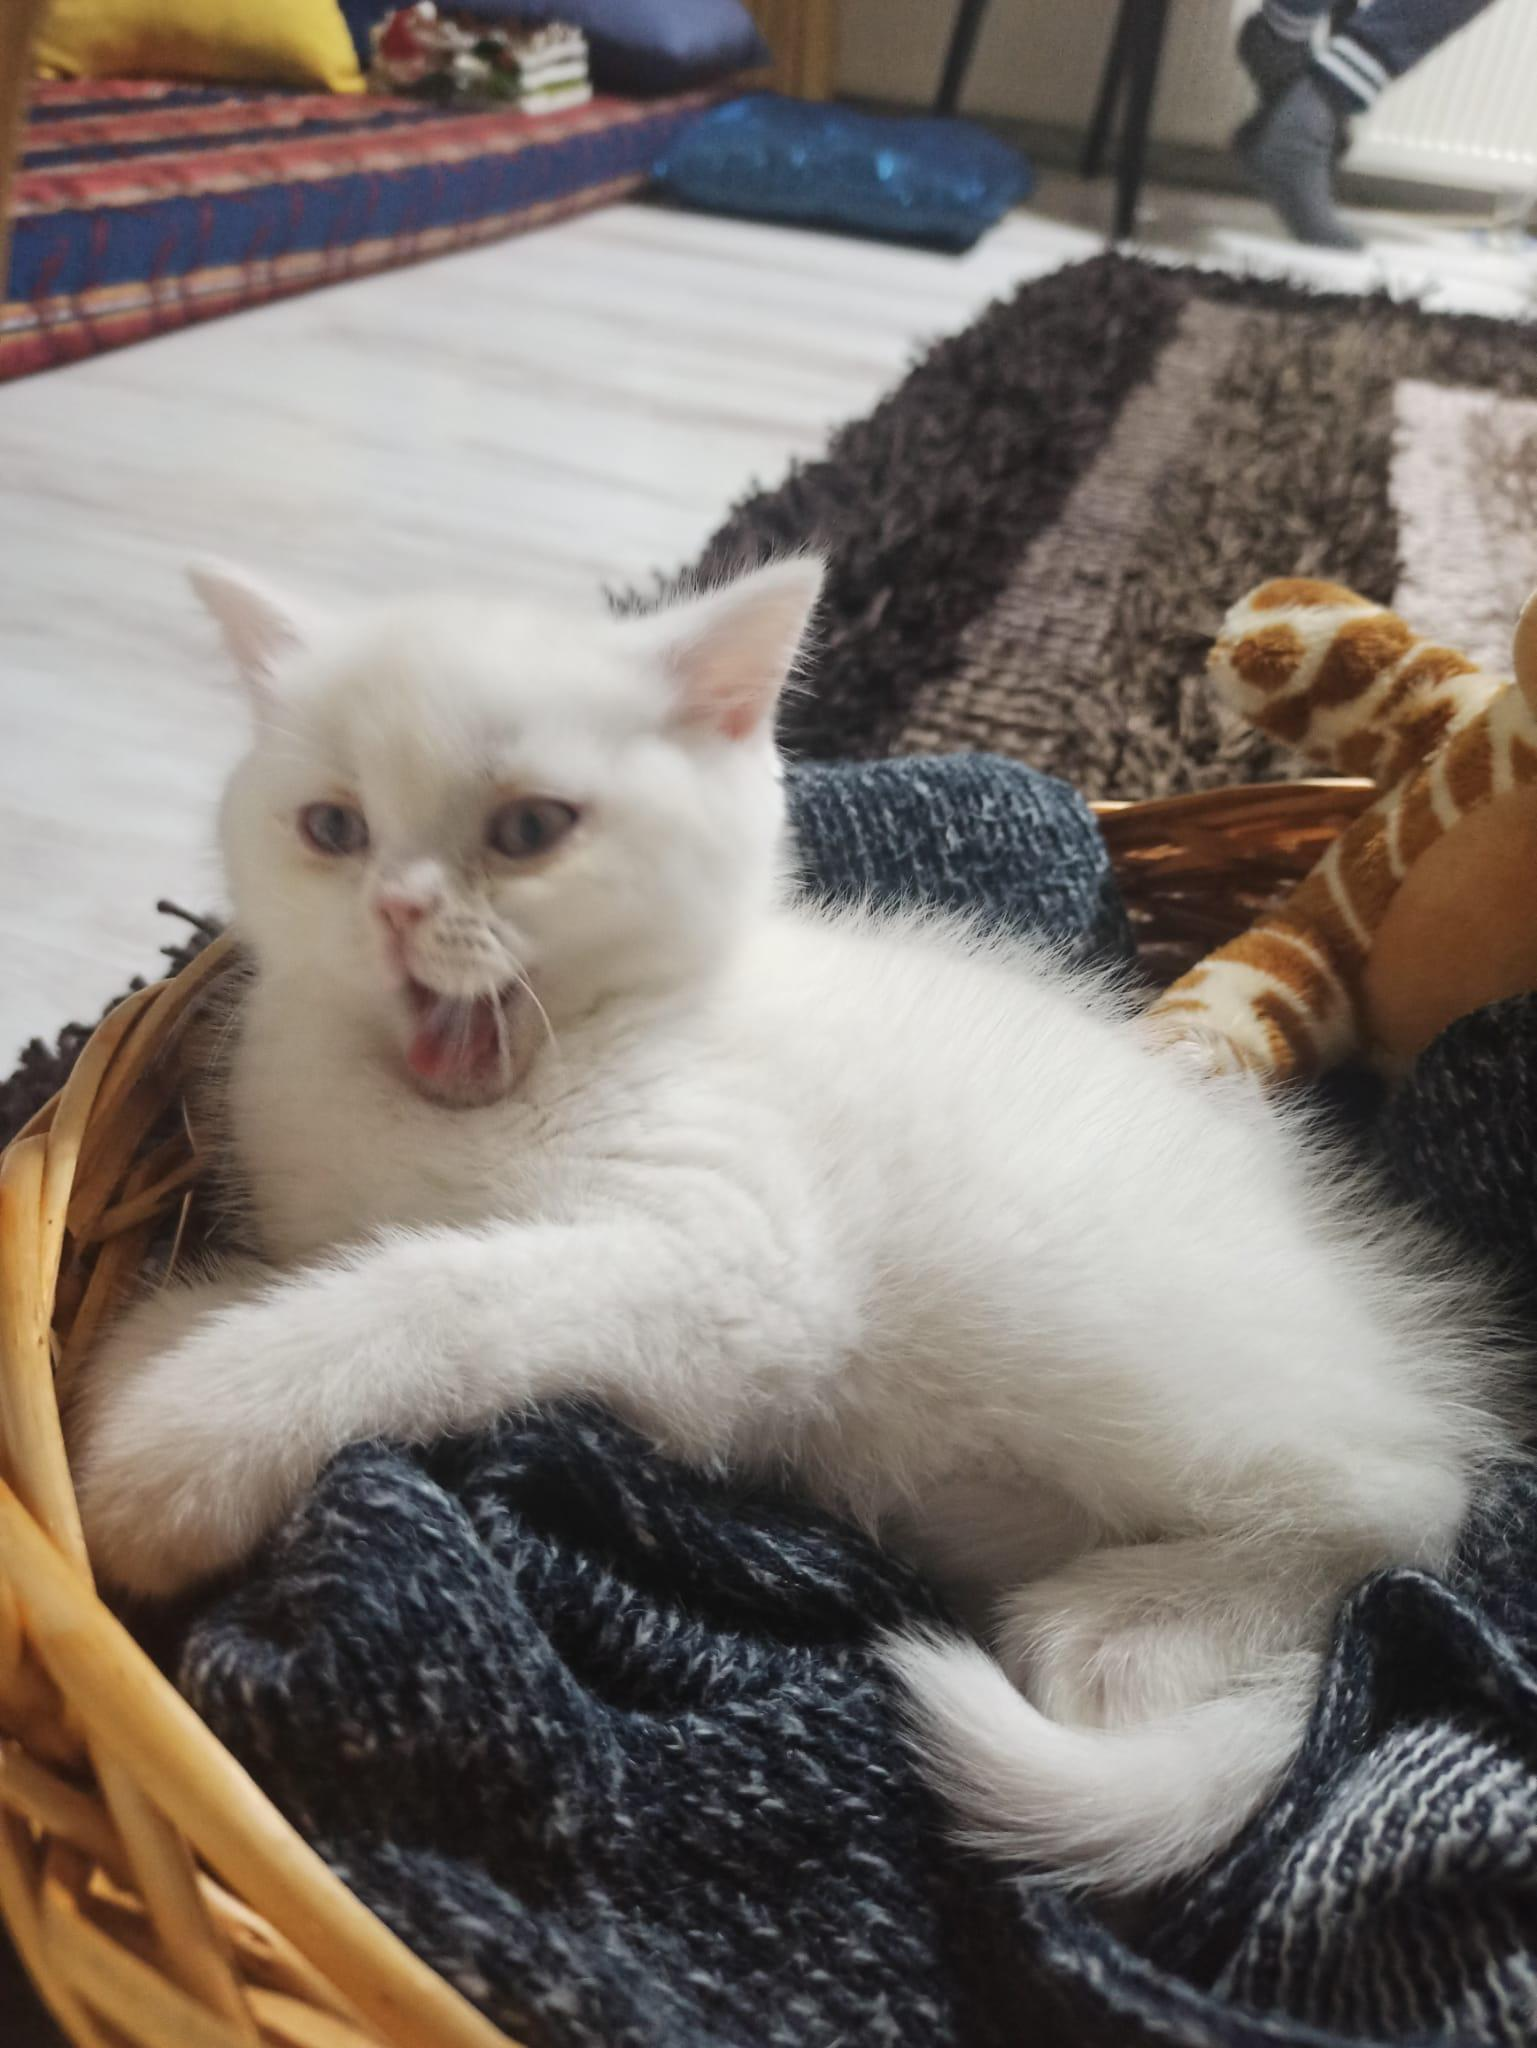kedo: (90, 554, 1469, 1853)
